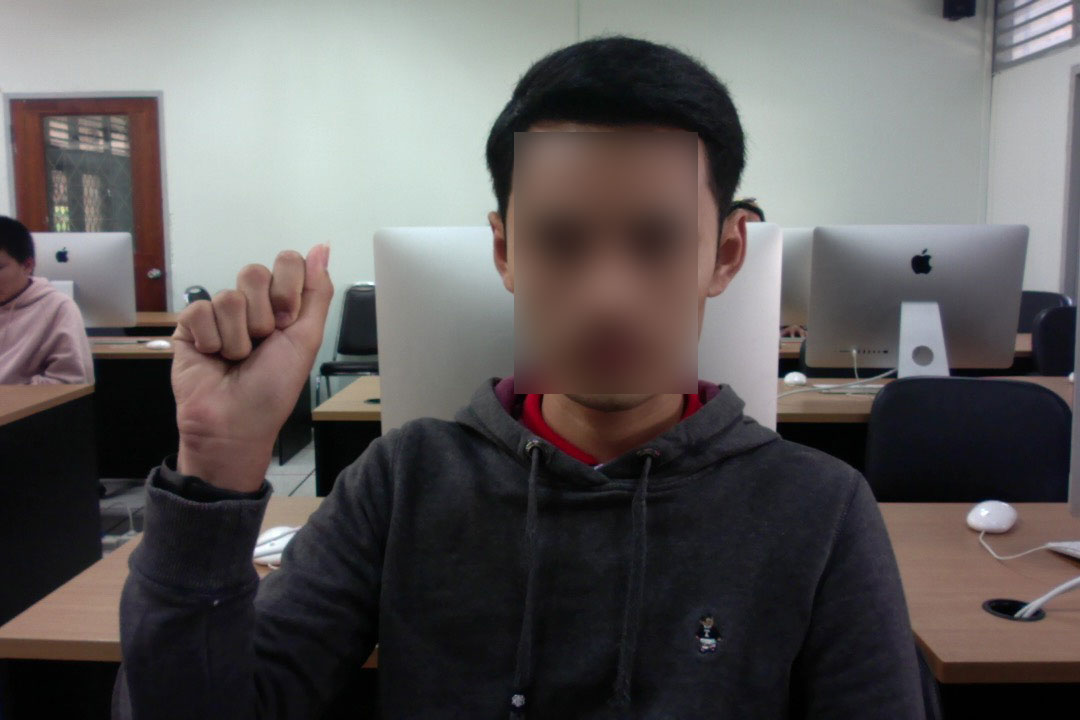or: (152, 232, 343, 464)
